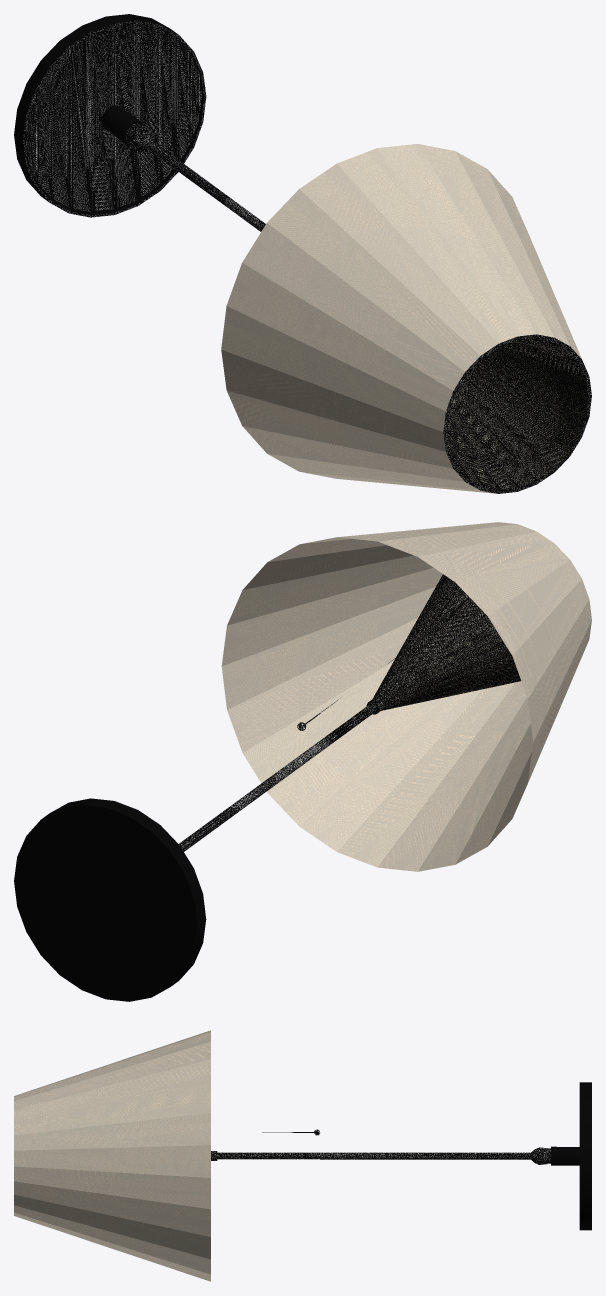
Rendered from lamp_ikea_arstid.obj.
The picture shows the model from 3 angles, top to bottom: view 1: azimuth 30°, elevation 25°; view 2: azimuth 150°, elevation 25°; view 3: azimuth 270°, elevation 25°; orthographic projection. The views are drawn at different scales.
Parts seen in each view (by area): view 1: lamp_ikea_arstid; view 2: lamp_ikea_arstid; view 3: lamp_ikea_arstid.
Part boxes in pixels (x1,y1,x2,y2): lamp_ikea_arstid: (14,14,591,493); lamp_ikea_arstid: (14,522,591,1001); lamp_ikea_arstid: (14,1030,591,1281).
Bounding box in the file's own units: 0.2393 × 0.2393 × 0.5477.
6 materials, 1 textured.
